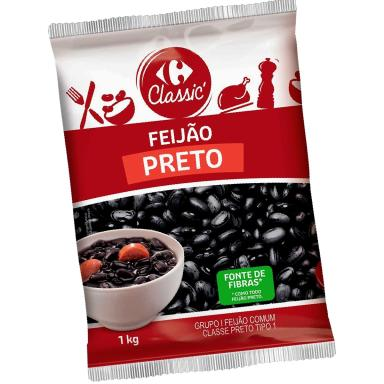beans package: (50, 0, 334, 380)
